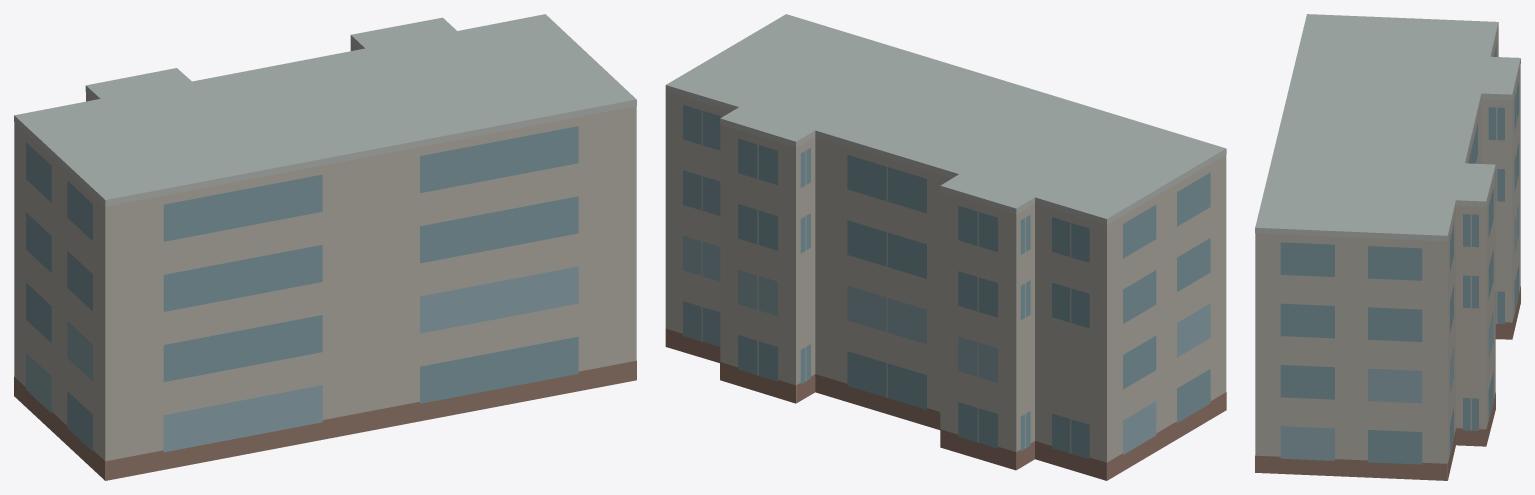
File: survey-upis-32566420.glb
3 views of the same model, side by side, from view 1: azimuth 30°, elevation 25°; view 2: azimuth 150°, elevation 25°; view 3: azimuth 270°, elevation 25° (orthographic). The views are drawn at different scales.
Visible parts, largest first — view 1: survey-upis-32566420.tmp; view 2: survey-upis-32566420.tmp; view 3: survey-upis-32566420.tmp.
Boxes of the visible parts, x1,y1,x2,y2 form: survey-upis-32566420.tmp: (14,14,636,480); survey-upis-32566420.tmp: (665,14,1226,480); survey-upis-32566420.tmp: (1255,14,1520,480).
Size of the model in its own units: 20.39 by 10.5 by 10.33.
